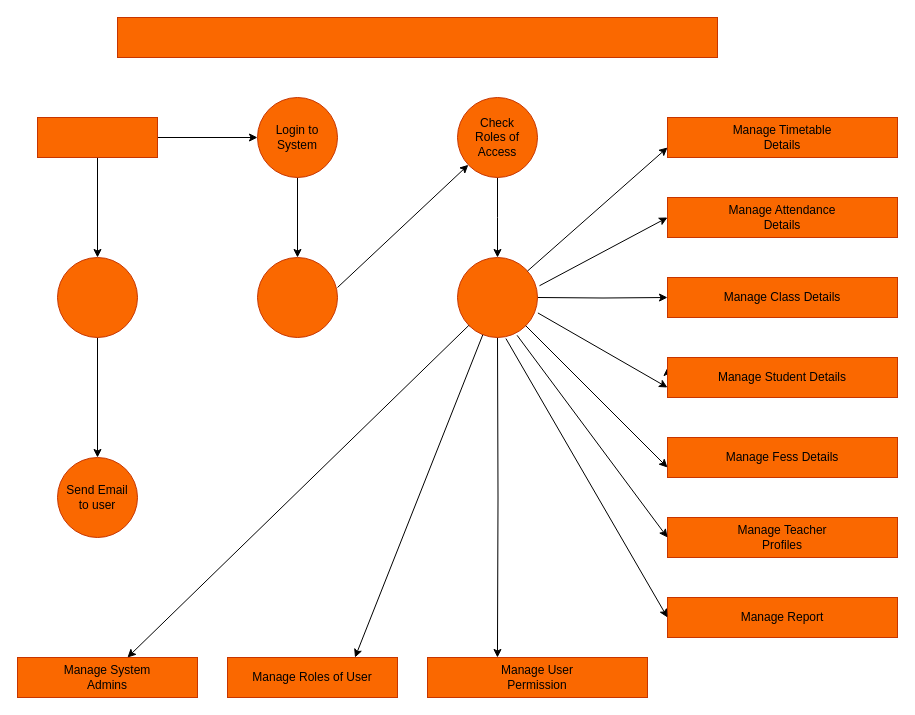
The diagram is 915 pixels wide and 715 high, and some of its shapes have lost their labels. The centre of each missing label's shape, as x and y in pixels:
"Admin" goes at (x=97, y=137).
"Check Credentials" goes at (x=297, y=297).
"Forgot Password" goes at (x=97, y=297).
"Manage Modules" goes at (x=497, y=297).
"Student Information System" goes at (x=417, y=37).
